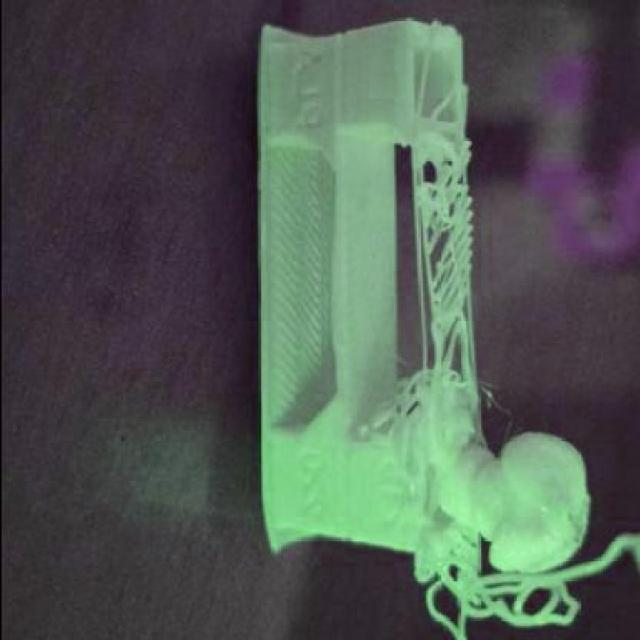spaghetti: (405, 517, 640, 639), (412, 52, 480, 405), (347, 377, 421, 443)
